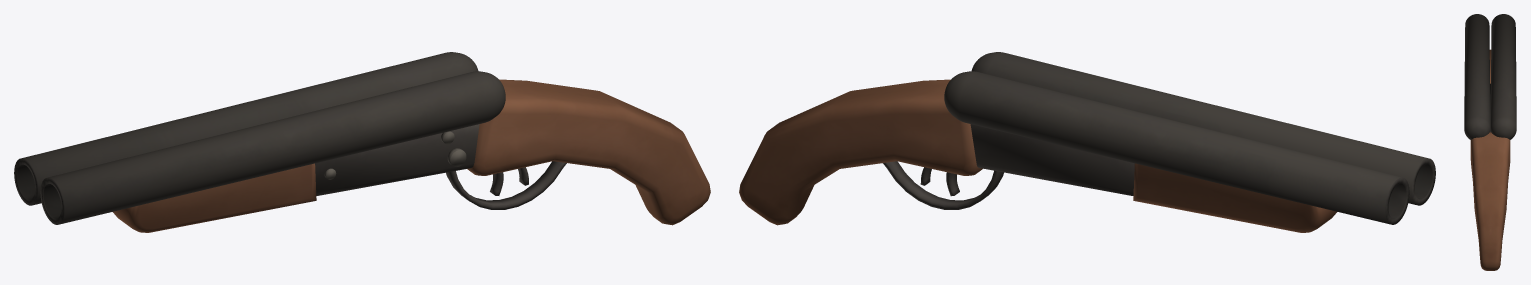
The model's file is shotgun2.fbx.
3 views of the same model, side by side, from view 1: azimuth 30°, elevation 25°; view 2: azimuth 150°, elevation 25°; view 3: azimuth 270°, elevation 25° (orthographic). The views are drawn at different scales.
Visible parts, largest first — view 1: sawedoff; view 2: sawedoff, trigger; view 3: sawedoff.
Boxes of the visible parts, x1=… form: sawedoff: x1=14, y1=52, x2=710, y2=232; sawedoff: x1=739, y1=52, x2=1435, y2=232; trigger: x1=920, y1=167, x2=959, y2=196; sawedoff: x1=1464, y1=14, x2=1516, y2=270.
Size of the model in its own units: 48.69 by 14.45 by 6.66.
1 material, 1 textured.
